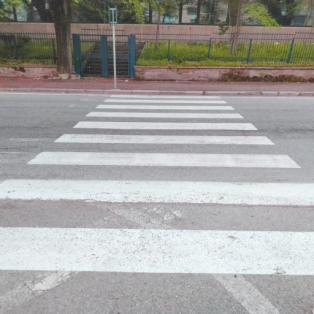Paso de Cebra: (0, 148, 314, 211), (70, 112, 262, 133)
